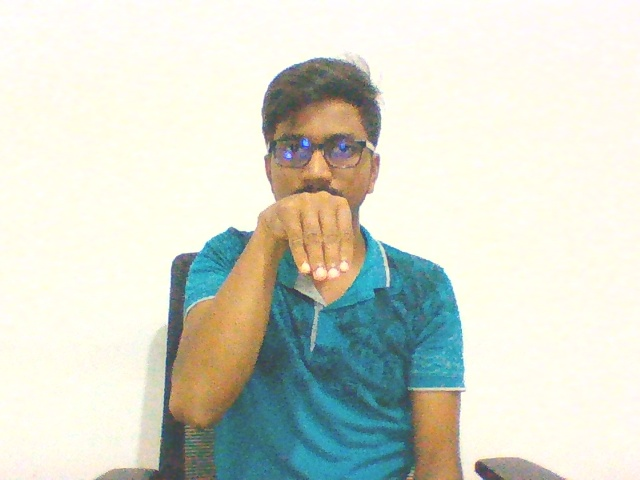Squirrel: (244, 172, 381, 300)
